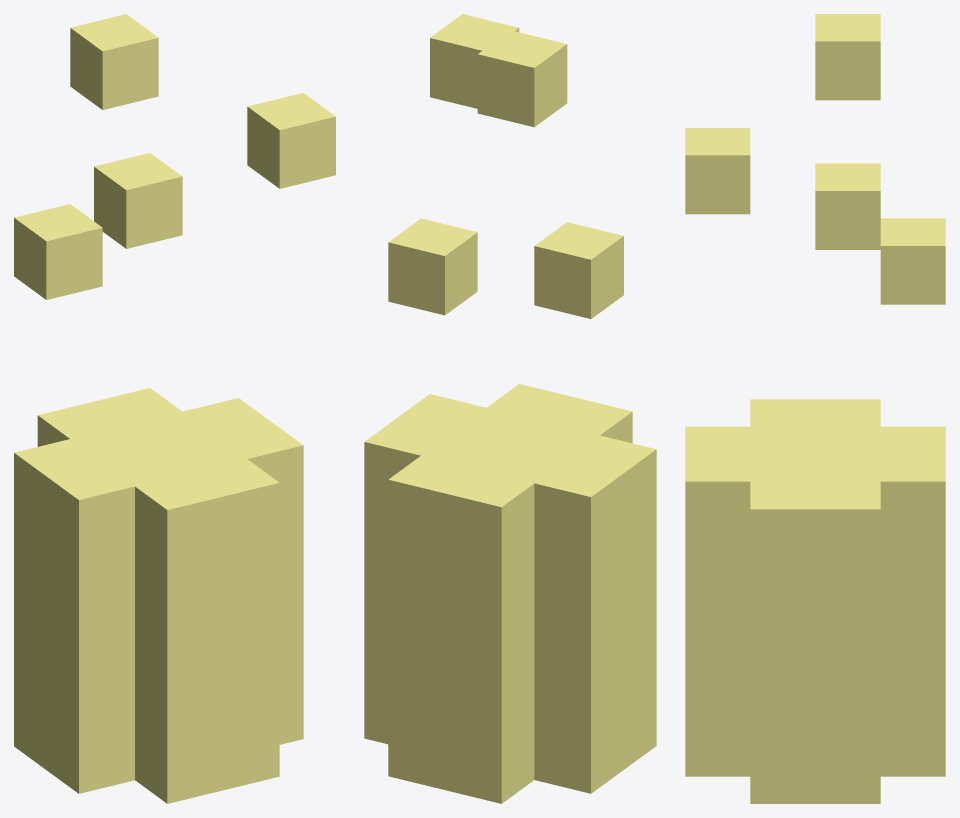
The model's file is link marine.fbx.
3 renders of one model, left to right at view 1: azimuth 30°, elevation 25°; view 2: azimuth 150°, elevation 25°; view 3: azimuth 270°, elevation 25°, orthographic.
Parts seen in each view (by area): view 1: link marine; view 2: link marine; view 3: link marine.
Boxes of the visible parts, x1=… form: link marine: x1=14, y1=14, x2=335, y2=803; link marine: x1=364, y1=14, x2=656, y2=803; link marine: x1=685, y1=14, x2=945, y2=803.
Bounding box in the file's own units: 0.4 × 1.2 × 0.4.
1 material, 1 textured.
